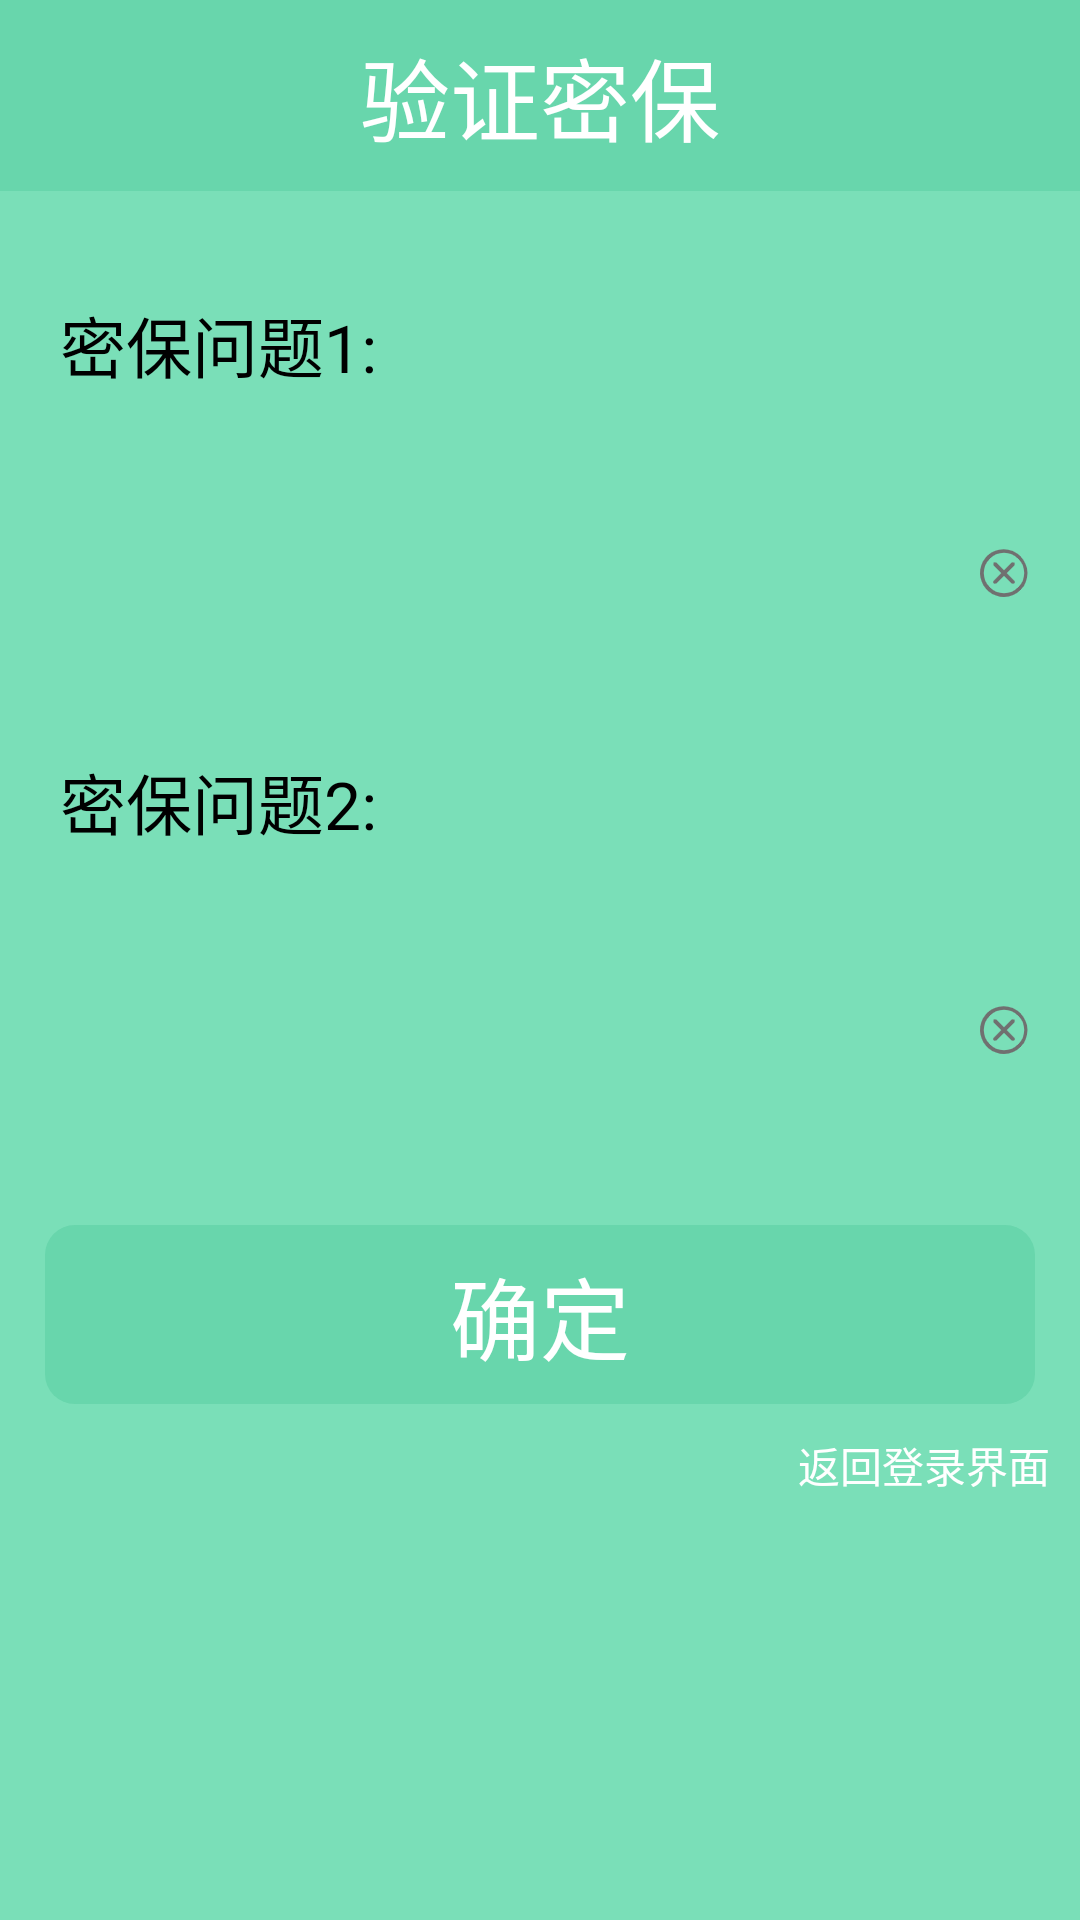

Where to tap for icons on this 1080×1920 app screen, as point (x, y):
chahao: point (1004, 573), point (1004, 1030)
